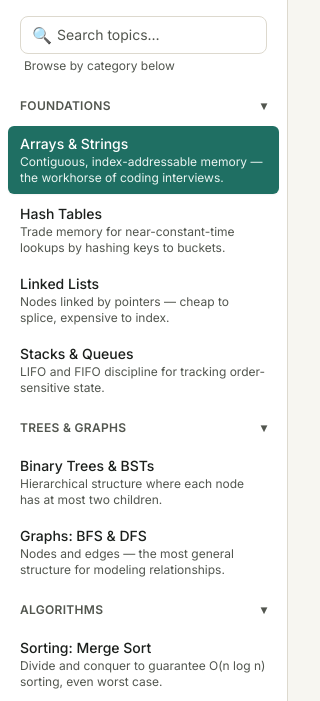
Sidebar › shows a "no results" message when the search matches nothing
The width and height of the screenshot is (320, 701).
Type "zzzzzz-not-a-topic" into the search field at (144, 35), box [20,16,267,54]
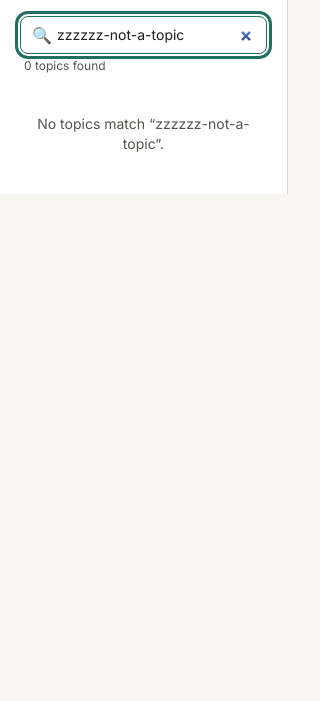
Expected: the text "No topics match “zzzzzz-not-a-topic”." is shown, [37,115,250,152]
